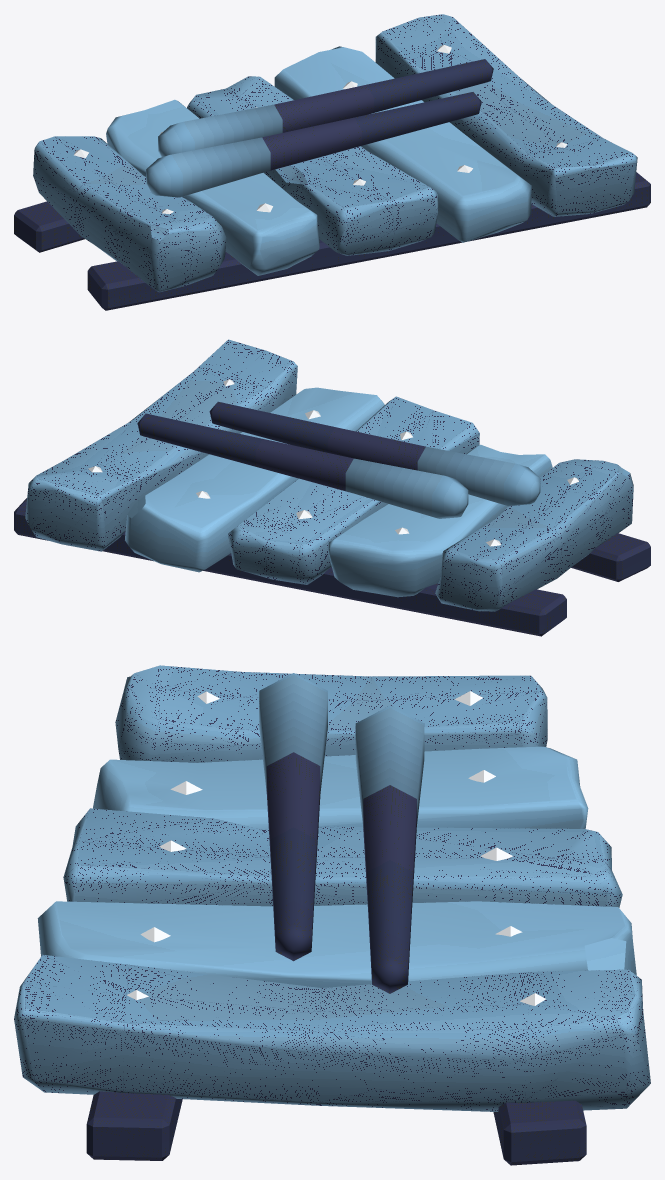
The model's file is CharSkyKid_Prop_AP05Xylophone.glb.
3 views of the same model, one above another, from view 1: azimuth 30°, elevation 25°; view 2: azimuth 150°, elevation 25°; view 3: azimuth 270°, elevation 25° (orthographic). The views are drawn at different scales.
Parts seen in each view (by area): view 1: CharSkyKid_Prop_AP05Xylophone; view 2: CharSkyKid_Prop_AP05Xylophone; view 3: CharSkyKid_Prop_AP05Xylophone.
Boxes of the visible parts, x1=… form: CharSkyKid_Prop_AP05Xylophone: x1=14, y1=14, x2=650, y2=310; CharSkyKid_Prop_AP05Xylophone: x1=14, y1=339, x2=650, y2=636; CharSkyKid_Prop_AP05Xylophone: x1=14, y1=665, x2=650, y2=1165.
Size of the model in its own units: 3.15 by 0.6119 by 2.1.
Materials: 1 (1 with a texture image).
